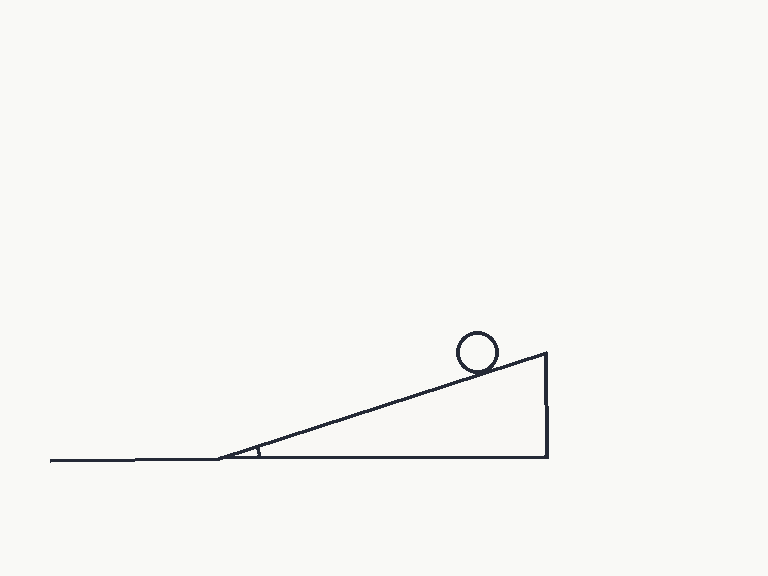ball: (454, 329, 500, 375)
ramp: (217, 350, 547, 460)
